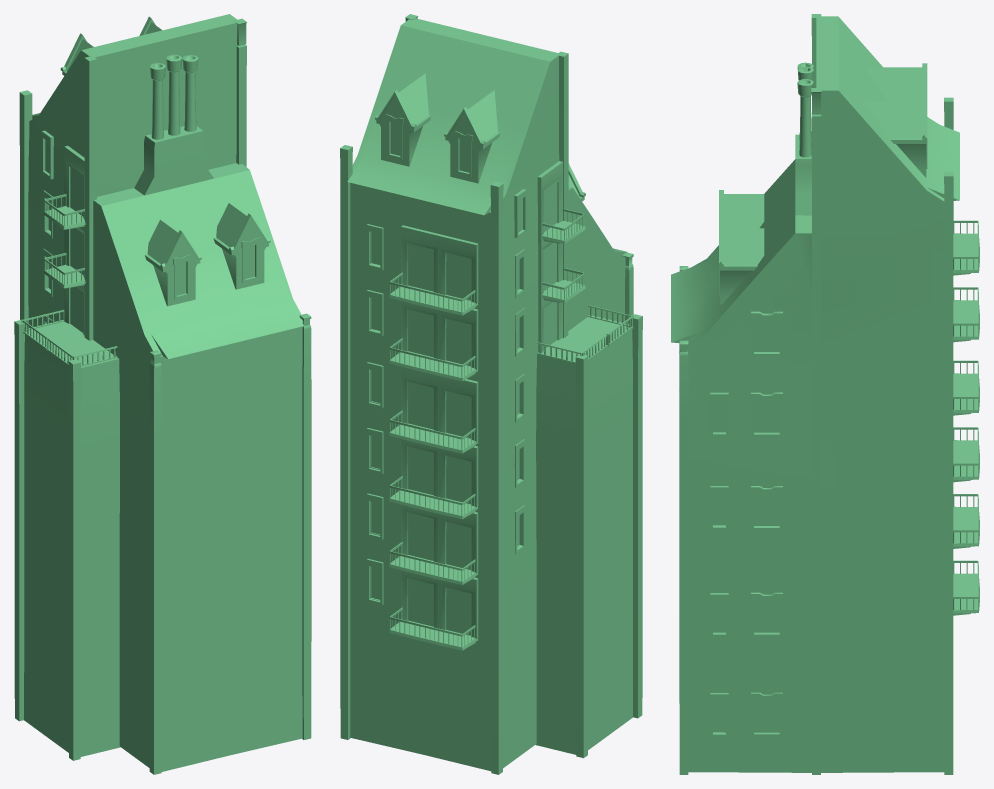
The model's file is Bgr_Building3.fbx.
The picture shows the model from 3 angles, left to right: view 1: azimuth 30°, elevation 25°; view 2: azimuth 150°, elevation 25°; view 3: azimuth 270°, elevation 25°; orthographic projection. The views are drawn at different scales.
Parts seen in each view (by area): view 1: Bgr_Building3; view 2: Bgr_Building3; view 3: Bgr_Building3.
Part boxes in pixels (<box>): Bgr_Building3: <box>14,14,311,774</box>; Bgr_Building3: <box>340,14,642,774</box>; Bgr_Building3: <box>671,14,979,774</box>.
Bounding box in the file's own units: 1625 × 5123 × 2099.
